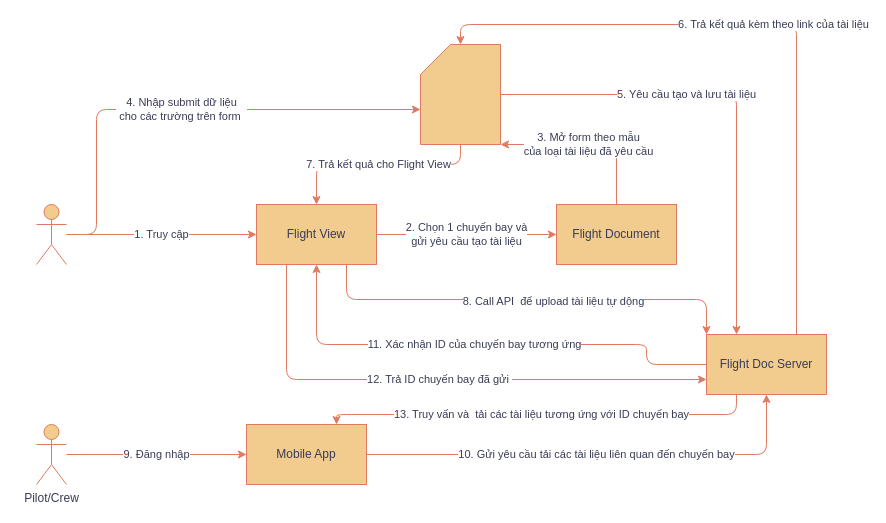
Image size: 886x523. Some labels were removed from this diagram. The shapes that lost their labels are listed below. From the top down, each one's centre as x and y in pixels, then its label:
At (460,94): "Form nhập số liệu".
At (51,234): "Back - Office".
